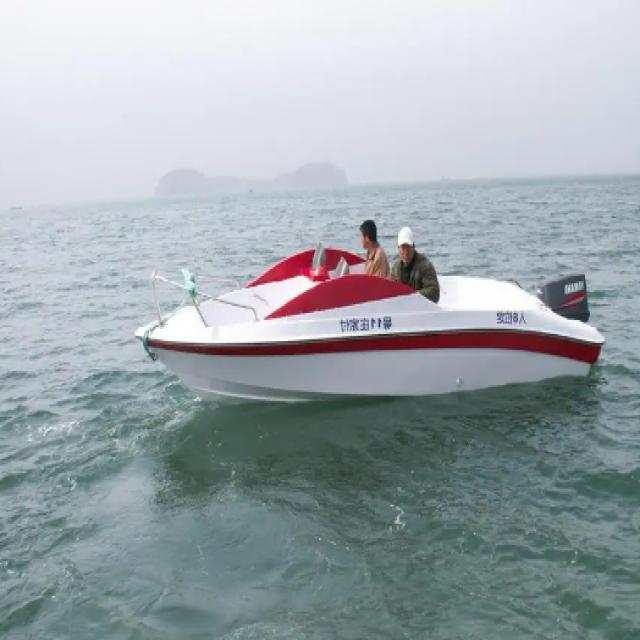houseboat: (134, 208, 607, 408)
